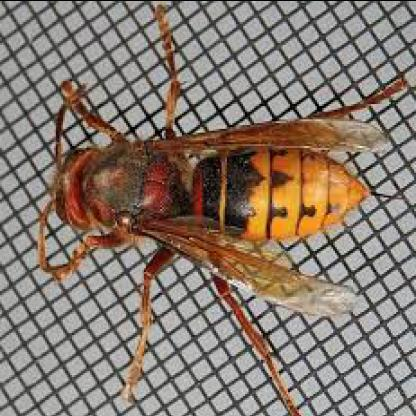european: (33, 24, 402, 408)
